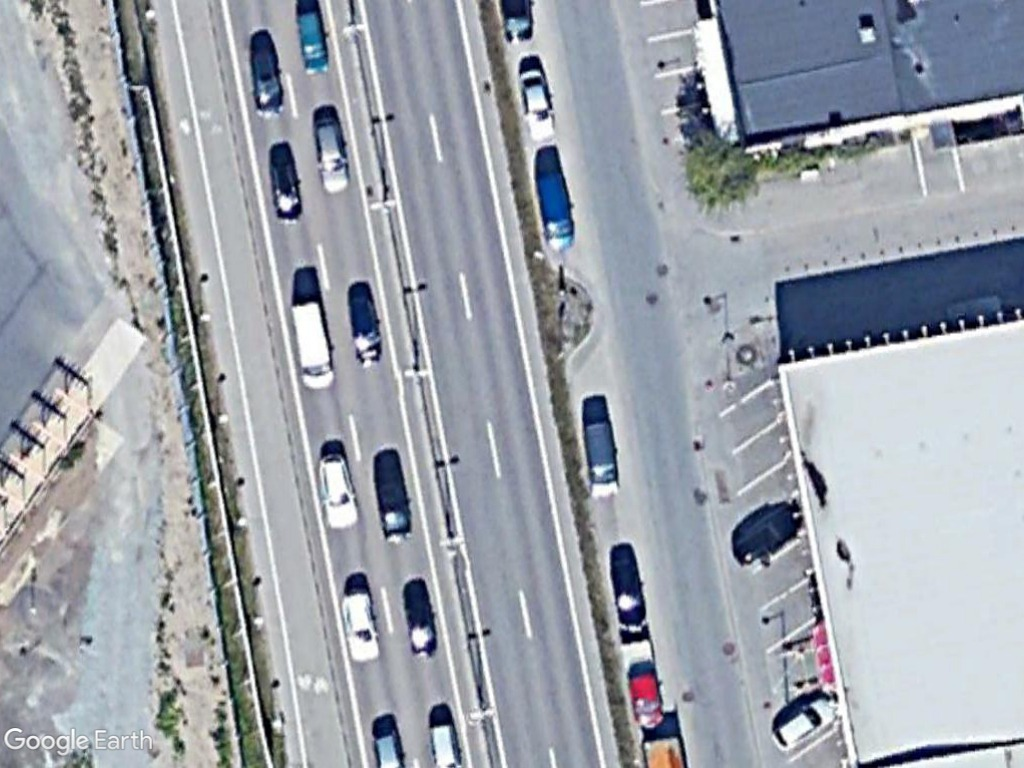car: (731, 505, 806, 568), (767, 693, 840, 756), (309, 108, 357, 199), (337, 583, 387, 670), (314, 445, 362, 535), (513, 64, 560, 147), (344, 280, 388, 368), (245, 34, 286, 121), (292, 5, 337, 81), (266, 144, 308, 224)
van: (288, 296, 339, 395), (530, 166, 577, 256), (582, 414, 625, 504)
